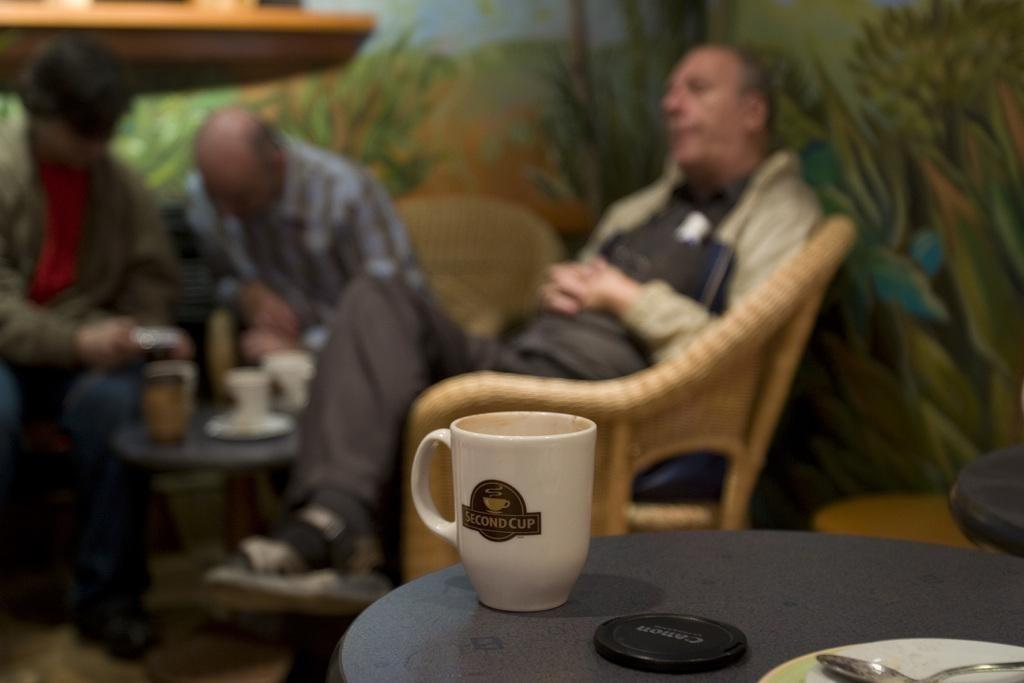cup-handle: (412, 409, 602, 611)
